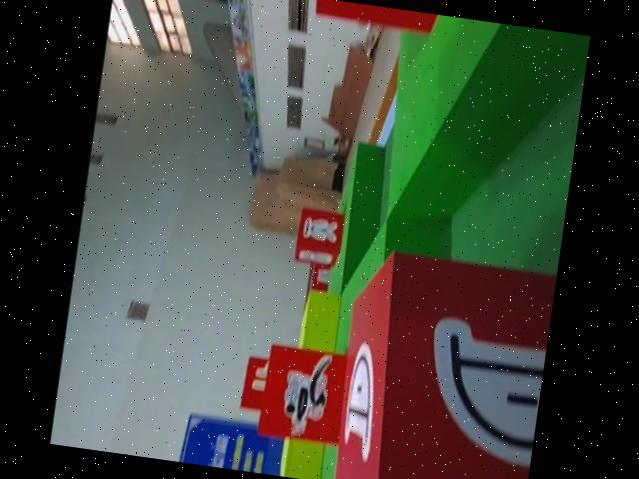R1: (255, 342, 355, 448)
R2 Fake: (304, 0, 462, 38), (290, 204, 348, 269)
R2 Real: (322, 241, 557, 479)
